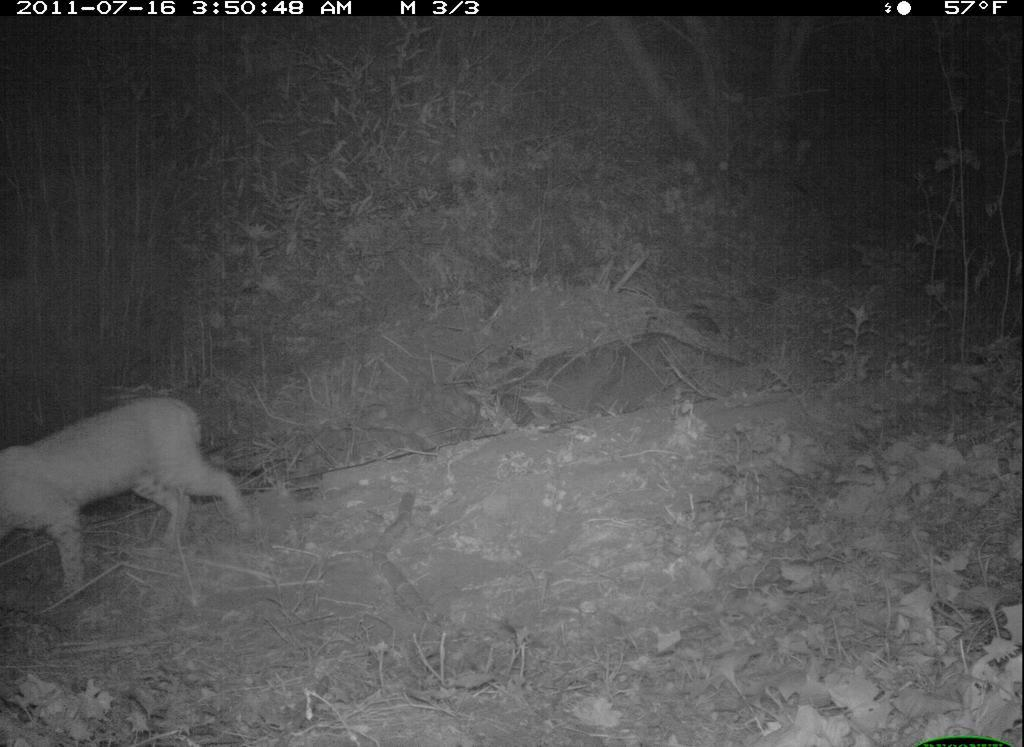bobcat: (2, 383, 264, 606)
